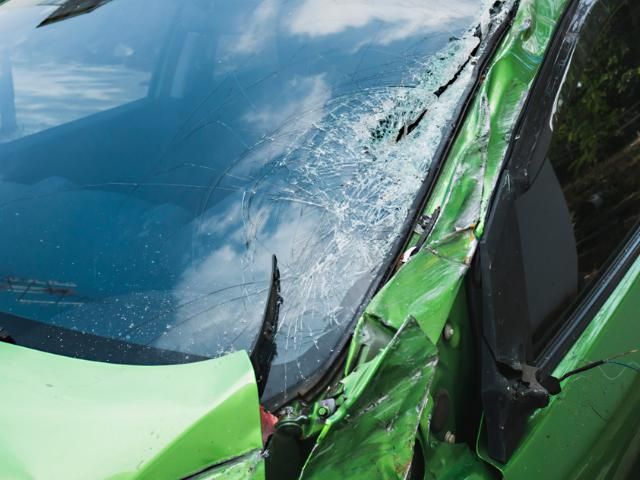Fender: (276, 0, 571, 479)
Windshield: (51, 0, 519, 423)
